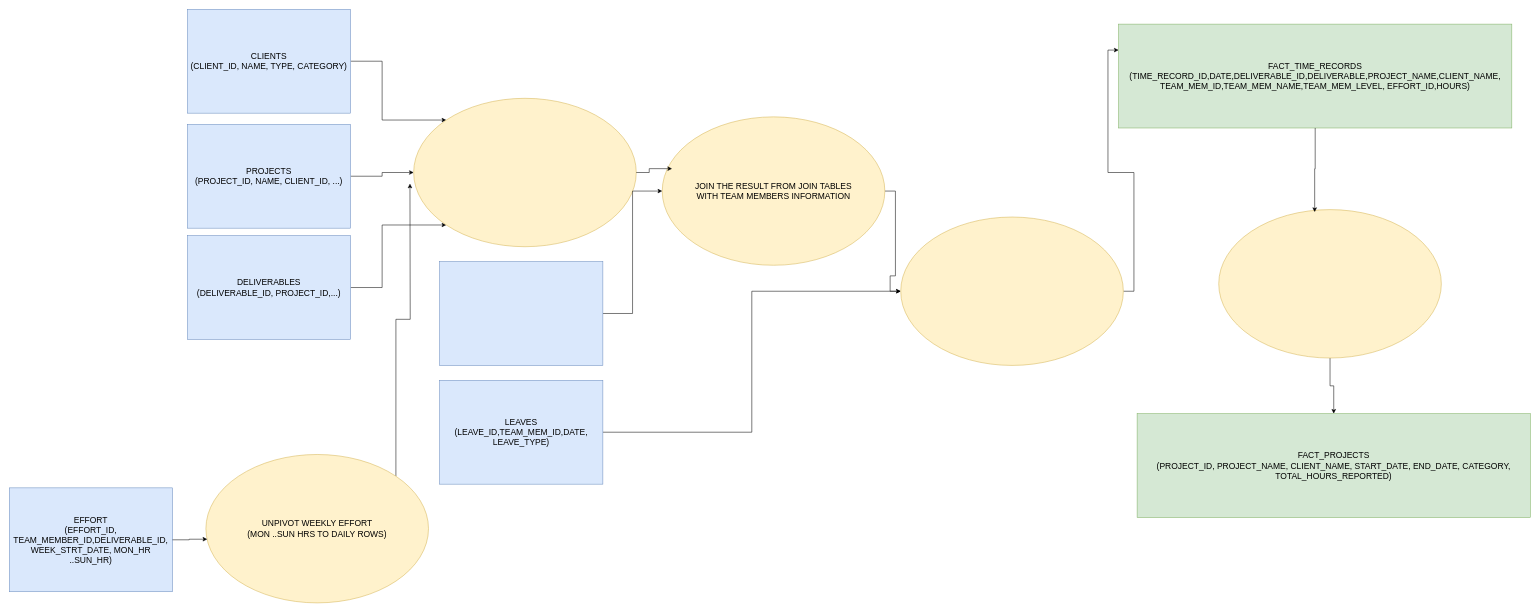
This 1540x612 diagram has some shape labels left out. The shapes that lost their labels are listed below. From the top down, each one's centre as x and y in pixels, then its label:
At (x=524, y=172): "JOIN TABLES DELIVERABLES, PROJECTS, CLIENTS UNPIVOT WEEKLY EFFORT".
At (x=1011, y=291): "CREATE SURROGATE KEYS (TIME_RECORD_ID...)".
At (x=1329, y=283): "AGGREGATE TOTAL HOURS BY PROJECT".
At (x=521, y=313): "TEAM_MEMBERS (TEAM_MEM_ID,NAME,LEVEL, HOURLY_RATE)".
